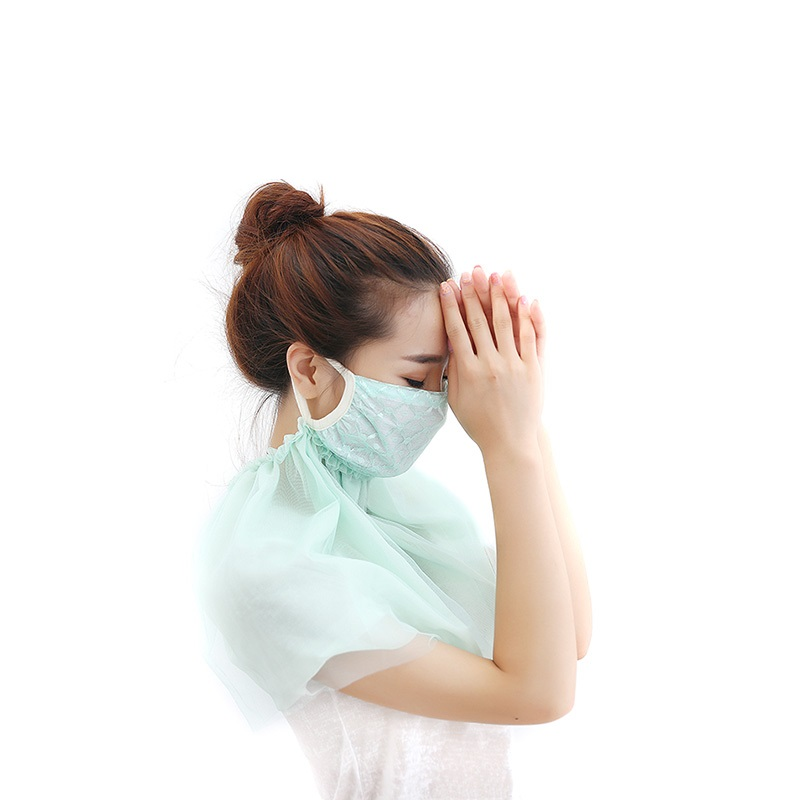face_mask: (324, 291, 458, 482)
